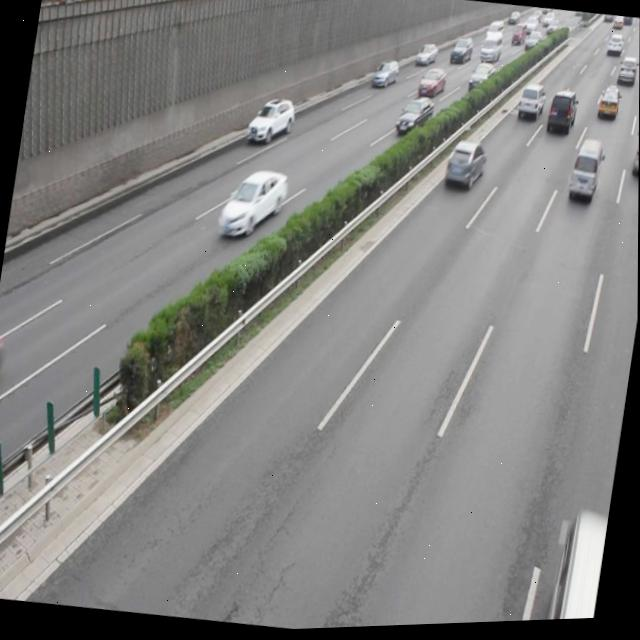car: (216, 165, 289, 248), (245, 92, 297, 152), (441, 140, 488, 195), (394, 96, 435, 143), (543, 91, 579, 140), (513, 86, 545, 129), (0, 329, 2, 401)
truck: (547, 509, 610, 624), (565, 139, 604, 207), (630, 125, 639, 184)
